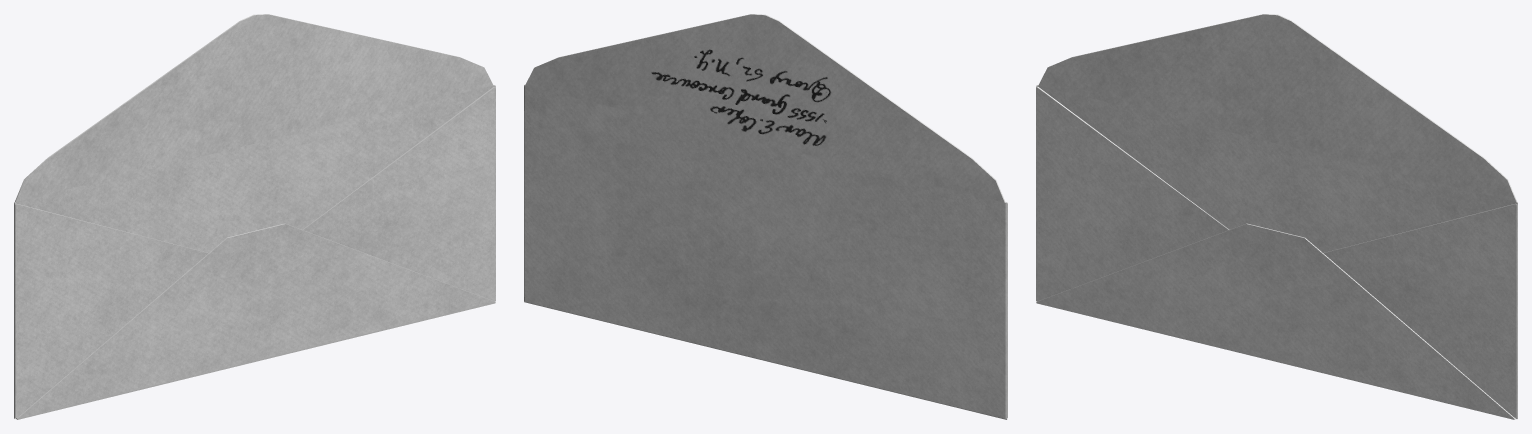
File: AP_EnvelopeOpen02_HB.fbx
The picture shows the model from 3 angles, left to right: view 1: azimuth 30°, elevation 25°; view 2: azimuth 150°, elevation 25°; view 3: azimuth 330°, elevation 25°; orthographic projection.
Visible parts, largest first — view 1: pCube3; view 2: pCube3; view 3: pCube3.
Part boxes in pixels (x1,y1,x2,y2): pCube3: [14, 14, 495, 419]; pCube3: [524, 14, 1007, 419]; pCube3: [1036, 14, 1517, 419].
Bounding box in the file's own units: 27.9 × 19.13 × 0.2757.
Materials: 1 (1 with a texture image).
